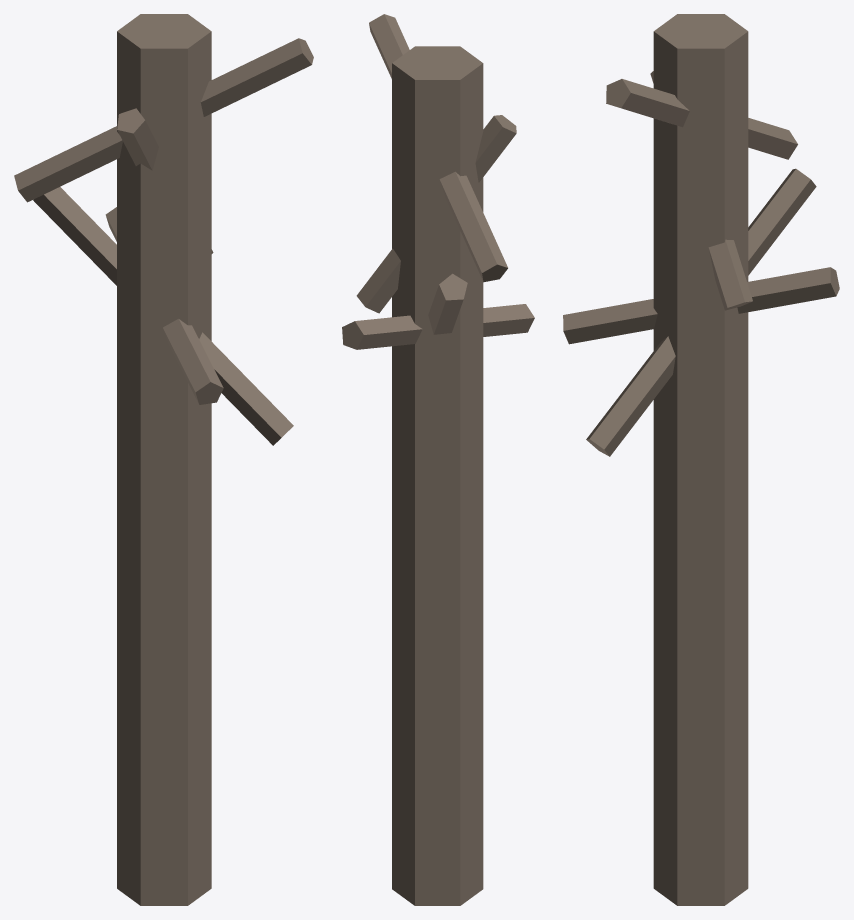
Rendered from dead_tree.glb.
3 views of the same model, side by side, from view 1: azimuth 30°, elevation 25°; view 2: azimuth 150°, elevation 25°; view 3: azimuth 270°, elevation 25° (orthographic). The views are drawn at different scales.
Visible parts, largest first — view 1: Trunk, Branch_3, Branch_0, Branch_2, Branch_1; view 2: Trunk, Branch_3, Branch_2, Branch_1, Branch_0; view 3: Trunk, Branch_0, Branch_2, Branch_3, Branch_1.
Part boxes in pixels (x1,y1,x2,y2): Trunk: (117,14,211,905); Branch_3: (14,38,313,202); Branch_0: (33,187,293,445); Branch_2: (105,207,223,404); Branch_1: (117,108,213,253); Trunk: (392,46,483,905); Branch_3: (369,14,507,282); Branch_2: (342,304,534,349); Branch_1: (356,115,516,313); Branch_0: (428,273,467,334); Trunk: (653,14,748,905); Branch_0: (586,168,816,456); Branch_2: (563,267,839,344); Branch_3: (606,79,797,159); Branch_1: (650,71,752,310).
Size of the model in its own units: 0.6431 by 2.4 by 0.702.
